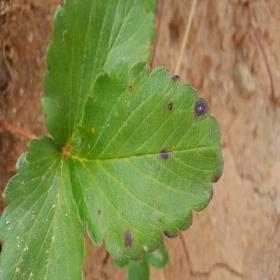Leaf Spot: (65, 58, 223, 262), (0, 135, 87, 279)
